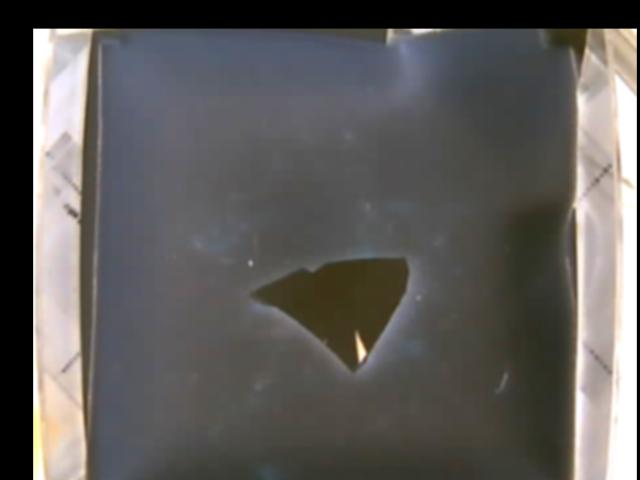China: (250, 255, 410, 368)
